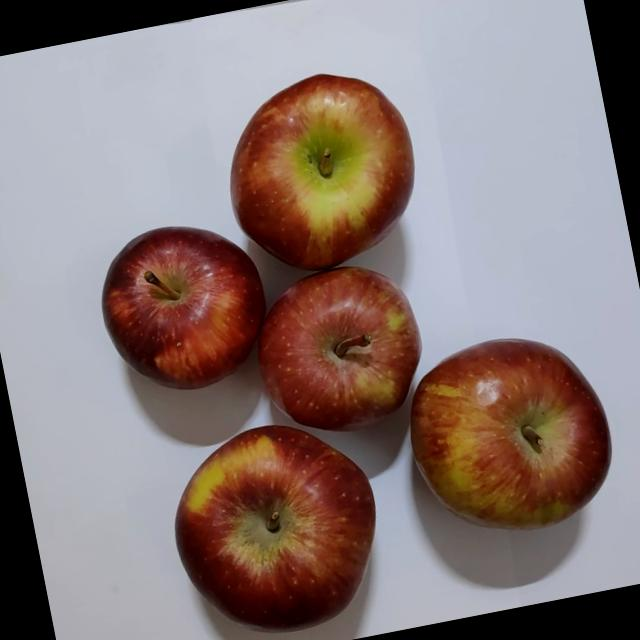apple: (384, 308, 630, 564), (146, 401, 402, 640), (205, 62, 442, 296), (240, 254, 438, 448), (89, 212, 279, 408)
